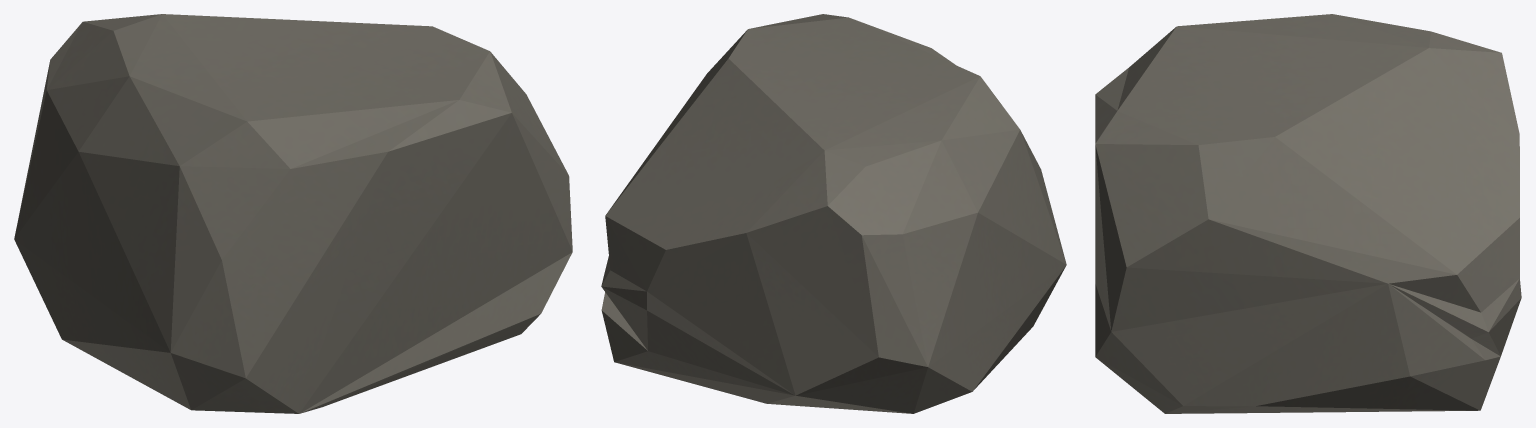
File: Rock_5B.fbx
3 renders of one model, left to right at view 1: azimuth 30°, elevation 25°; view 2: azimuth 150°, elevation 25°; view 3: azimuth 270°, elevation 25°, orthographic. The views are drawn at different scales.
Parts seen in each view (by area): view 1: Group49015; view 2: Group49015; view 3: Group49015.
Boxes of the visible parts, <box> form: Group49015: <box>14,14,572,413</box>; Group49015: <box>601,14,1066,413</box>; Group49015: <box>1095,14,1521,413</box>.
Bounding box in the file's own units: 220 × 150 × 221.
1 material, 1 textured.
